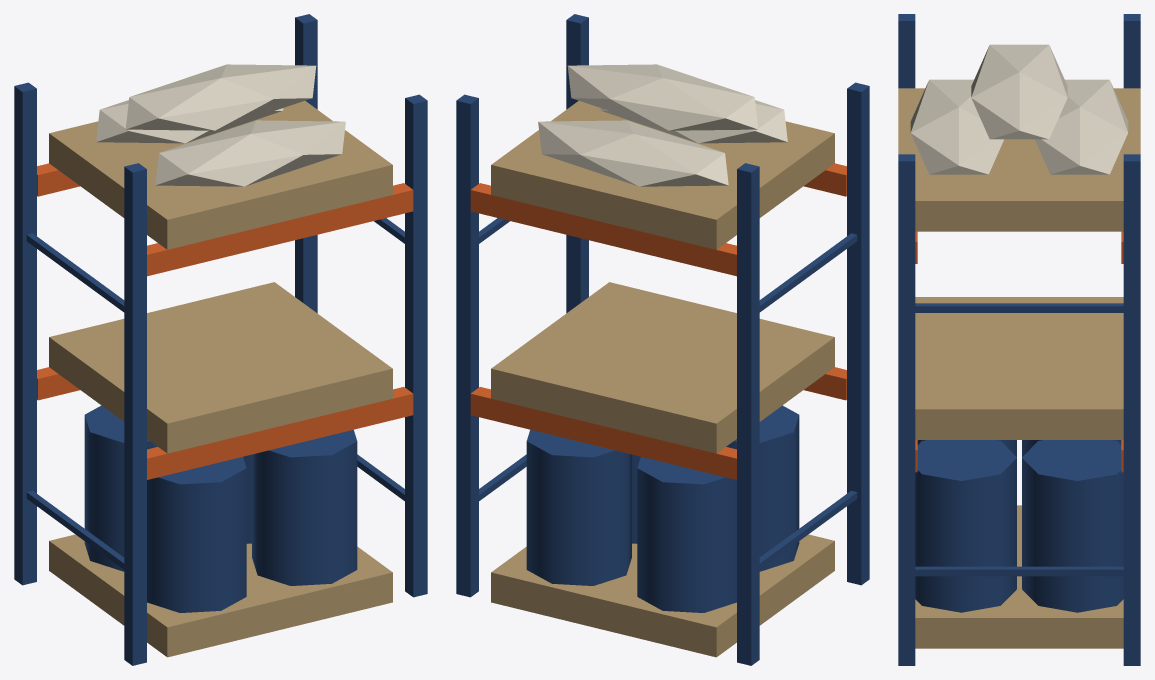
Rendered from pallet_racking_mixed.glb.
3 renders of one model, left to right at view 1: azimuth 30°, elevation 25°; view 2: azimuth 150°, elevation 25°; view 3: azimuth 270°, elevation 25°, orthographic. The views are drawn at different scales.
Parts seen in each view (by area): view 1: pallet_racking_mixed; view 2: pallet_racking_mixed; view 3: pallet_racking_mixed.
Part boxes in pixels (x1,y1,x2,y2): pallet_racking_mixed: [14, 14, 427, 665]; pallet_racking_mixed: [456, 14, 869, 665]; pallet_racking_mixed: [898, 14, 1140, 665].
Bounding box in the file's own units: 1.44 × 2.37 × 1.
Materials: 1 (1 with a texture image).
